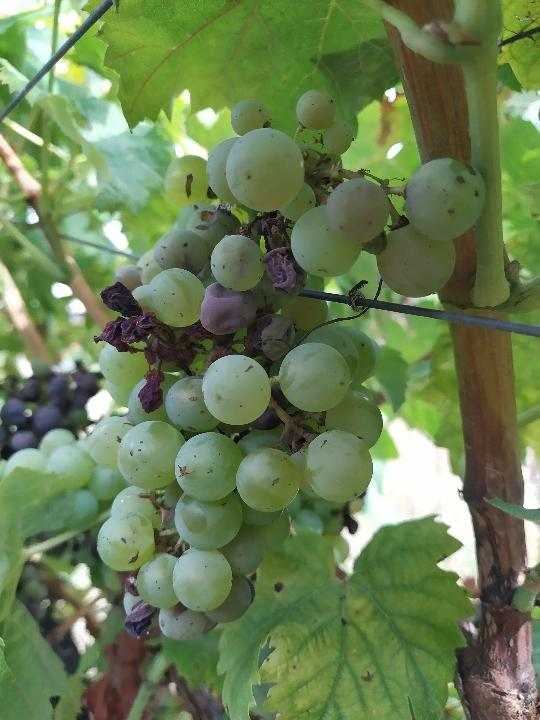grape: (89, 86, 490, 645)
